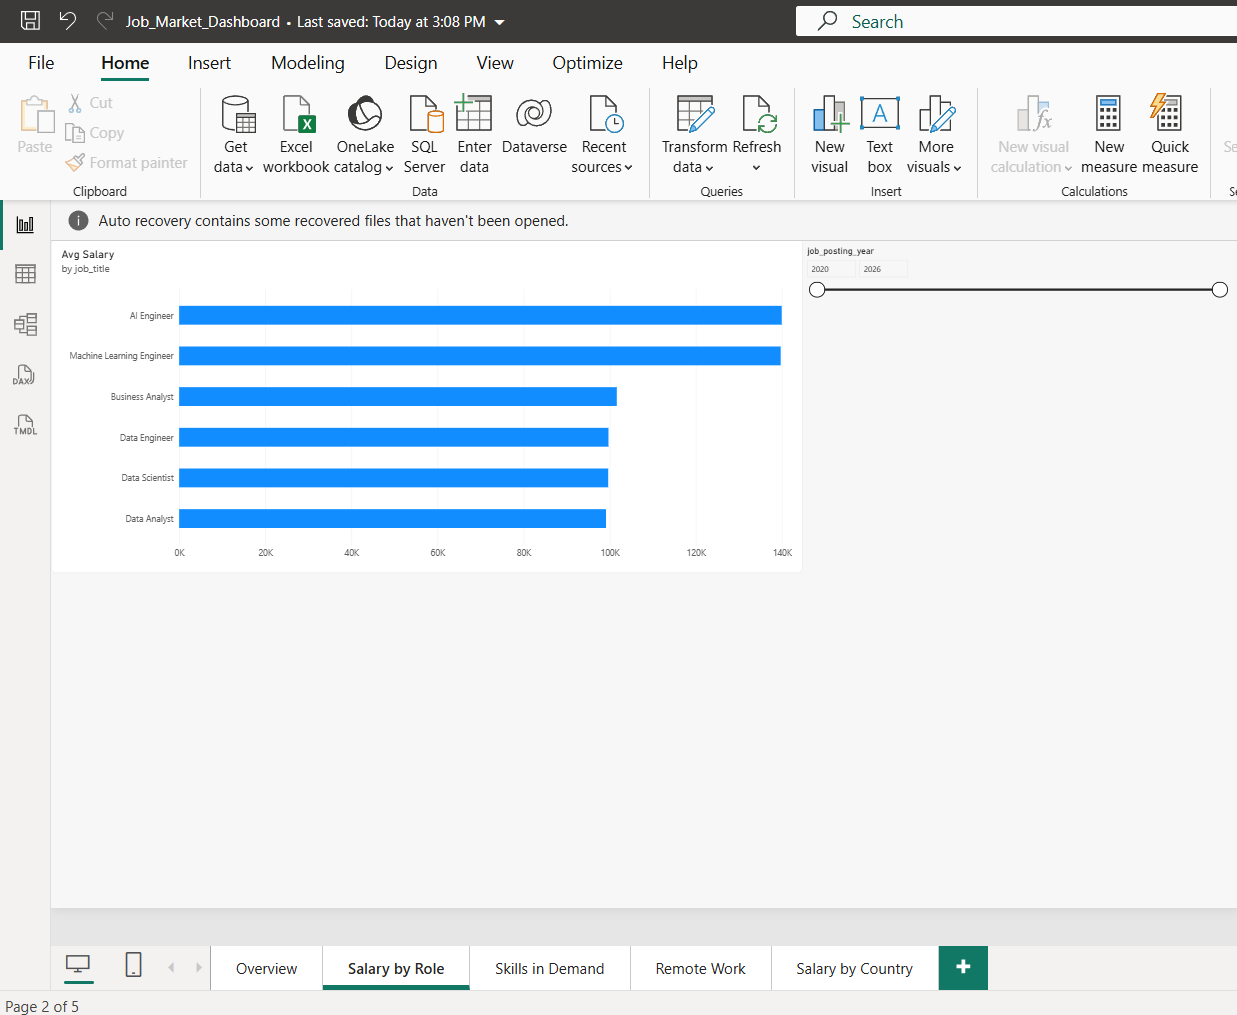

Layout of this report page (visuals, bound fields, positions):
{"tool":"powerbi","page":{"name":"Salary by Role","canvas":[1920,1080],"ordinal":1},"visuals":[{"type":"clusteredBarChart","fields":{"Category":["ai_jobs_2020_2026.job_title"],"Y":["ai_jobs_2020_2026.Avg Salary"]},"box":[0,0,1212.8,540.9],"z":0},{"type":"slicer","fields":{"Values":["ai_jobs_2020_2026.job_posting_year"]},"box":[1212.4,12.3,689.5,529],"z":1}]}

Visuals, with their boxes on the page's 1920x1080 design canvas (x1, y1, x2, y2). These are canvas units, not pixel positions in the 1237x1015 screenshot, which may show the page scaled, cropped or inside an application window:
clusteredBarChart - ai_jobs_2020_2026.job_title x ai_jobs_2020_2026.Avg Salary: crop(0, 0, 1213, 541)
slicer - ai_jobs_2020_2026.job_posting_year: crop(1212, 12, 1902, 541)
